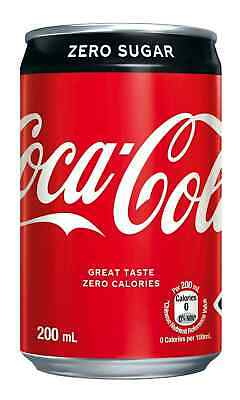can: (13, 17, 226, 388)
